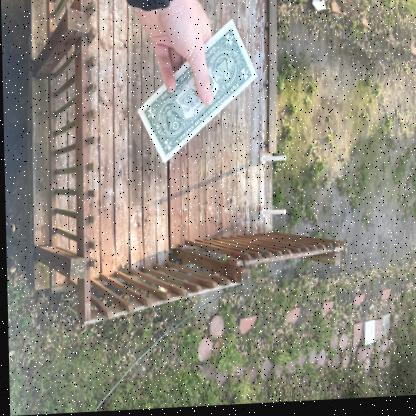one-back: (136, 22, 258, 165)
